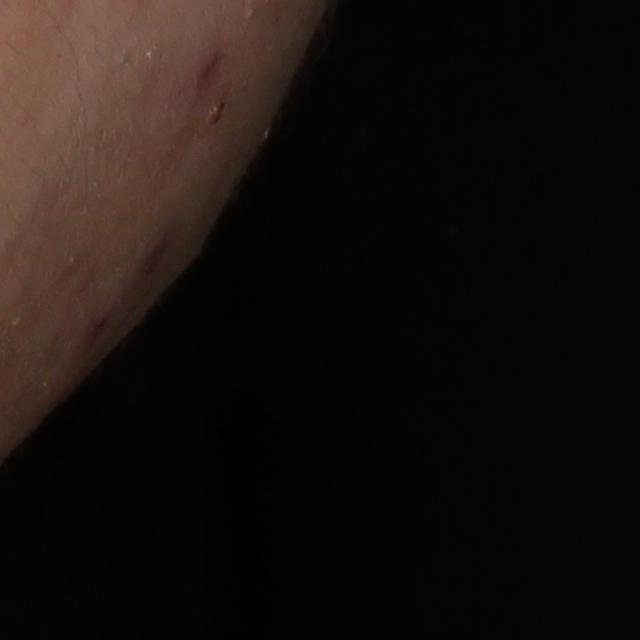papule: (193, 52, 222, 88)
